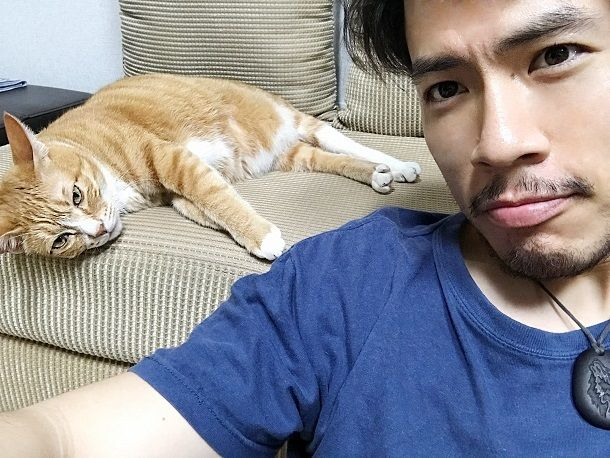cat: (1, 56, 429, 275)
cat-face: (4, 108, 131, 268)
